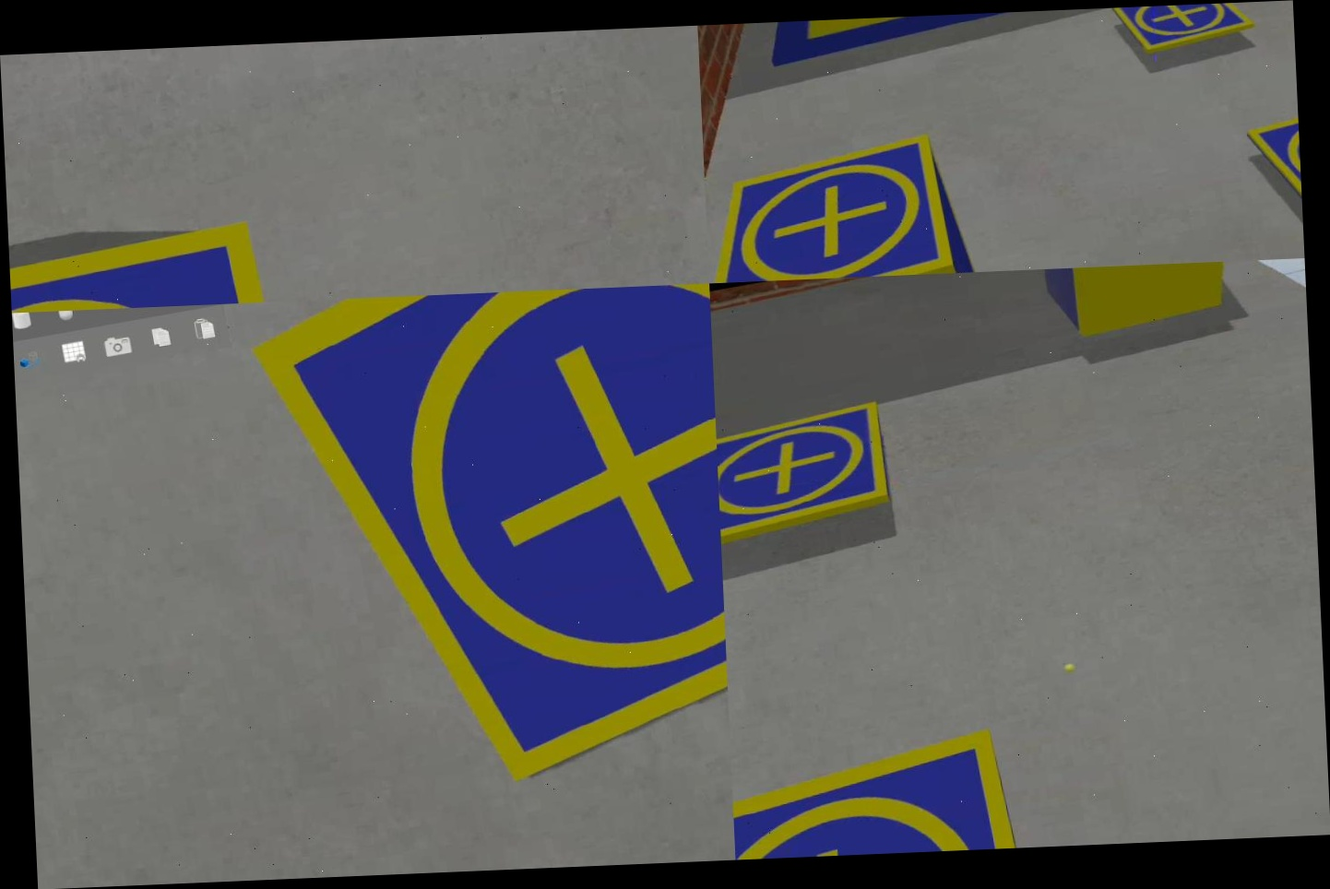large_base: (756, 10, 1063, 68)
small_base: (236, 283, 733, 820), (730, 722, 1030, 859), (703, 129, 957, 283), (715, 403, 901, 551), (1110, 2, 1254, 57), (1246, 92, 1302, 231)
